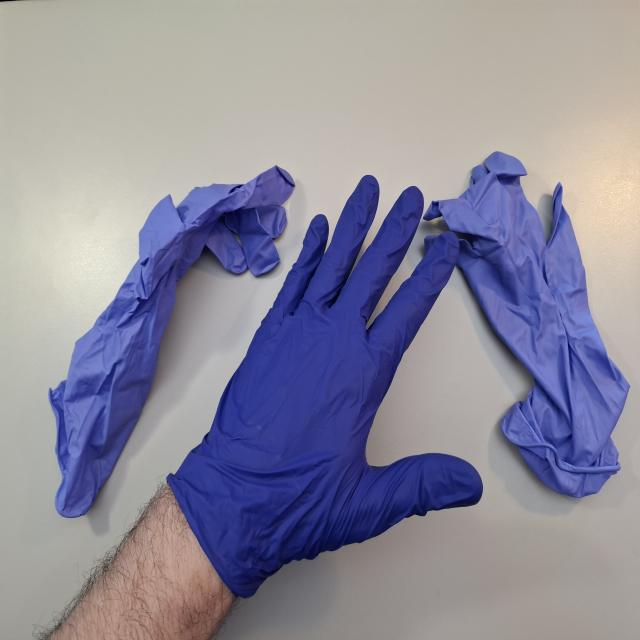glove_on: (165, 169, 486, 607)
